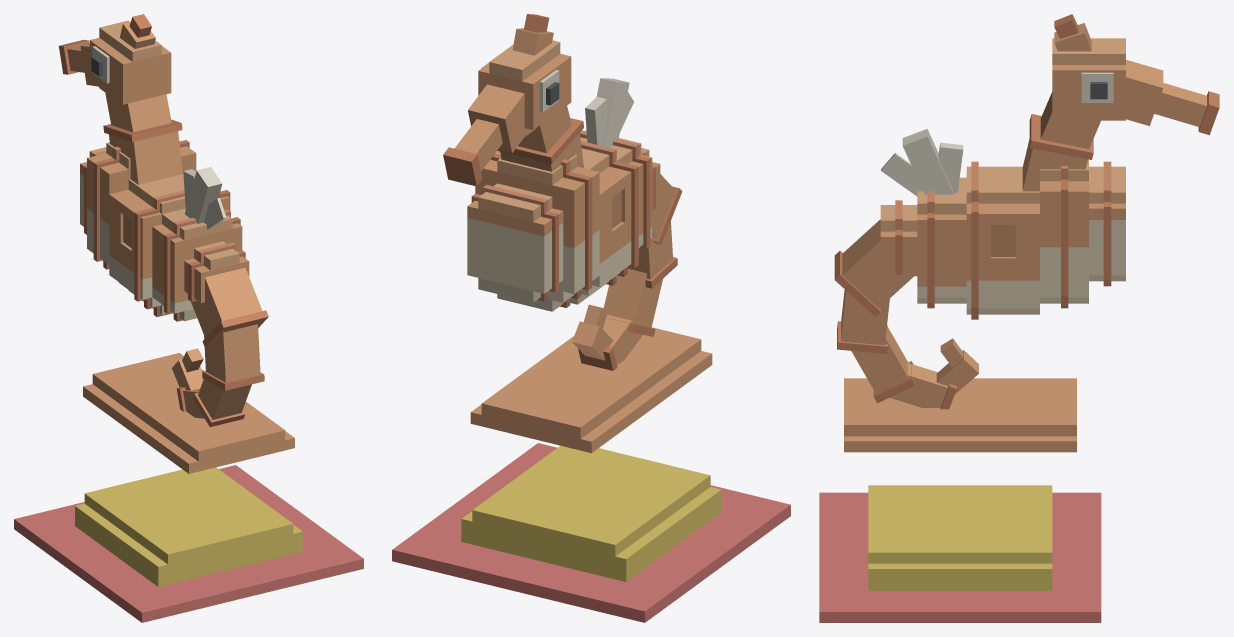
File: SeahorseTrainer1.glb
3 renders of one model, left to right at view 1: azimuth 30°, elevation 25°; view 2: azimuth 150°, elevation 25°; view 3: azimuth 270°, elevation 25°, orthographic. The views are drawn at different scales.
Visible parts, largest first — view 1: Stand, Body, Plate, Head, T1, T2, Fin, T3, T5, T4; view 2: Stand, Body, Plate, Head, T3, Fin, T4, T2, T1, T5; view 3: Stand, Body, Plate, Head, Fin, T1, T2, T3, T4, T5.
Boxes of the visible parts, x1,y1,x2,y2 form: Stand: (14, 465, 363, 622); Body: (80, 92, 249, 321); Plate: (83, 353, 294, 473); Head: (58, 14, 171, 104); T1: (191, 267, 268, 347); T2: (202, 324, 264, 390); Fin: (183, 167, 226, 229); T3: (192, 379, 251, 426); T5: (172, 359, 203, 390); T4: (176, 387, 204, 418); Stand: (392, 443, 790, 622); Body: (467, 106, 660, 311); Plate: (470, 327, 712, 452); Head: (443, 14, 571, 186); T3: (603, 268, 662, 336); Fin: (585, 78, 633, 147); T4: (578, 314, 642, 370); T2: (627, 221, 677, 288); T1: (652, 174, 682, 244); T5: (572, 321, 613, 360); Stand: (819, 485, 1101, 622); Body: (880, 92, 1125, 319); Plate: (844, 378, 1076, 452); Head: (1052, 14, 1219, 135); Fin: (881, 129, 963, 196); T1: (834, 219, 917, 316); T2: (837, 289, 889, 353); T3: (851, 326, 915, 403); T4: (890, 363, 956, 409); T5: (936, 350, 978, 394).
Bounding box in the file's own units: 9.2 × 19.67 × 13.06.
